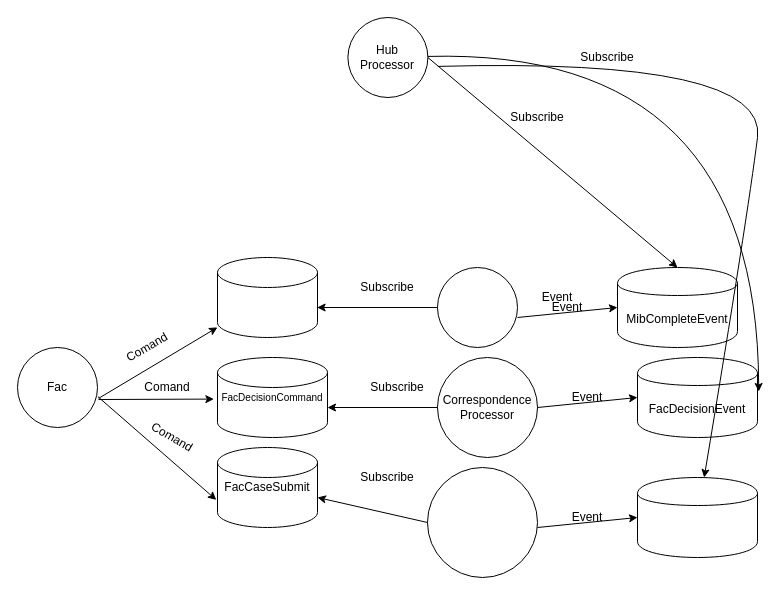
This 780x595 diagram has some shape labels left out. Here are the shapes that lost their labels. From the top down, the centre of each, then its label:
point (267, 297): SubMibCommand
point (477, 307): Mib Processor
point (482, 522): FacCase Processor
point (697, 517): FacCaseEvent
